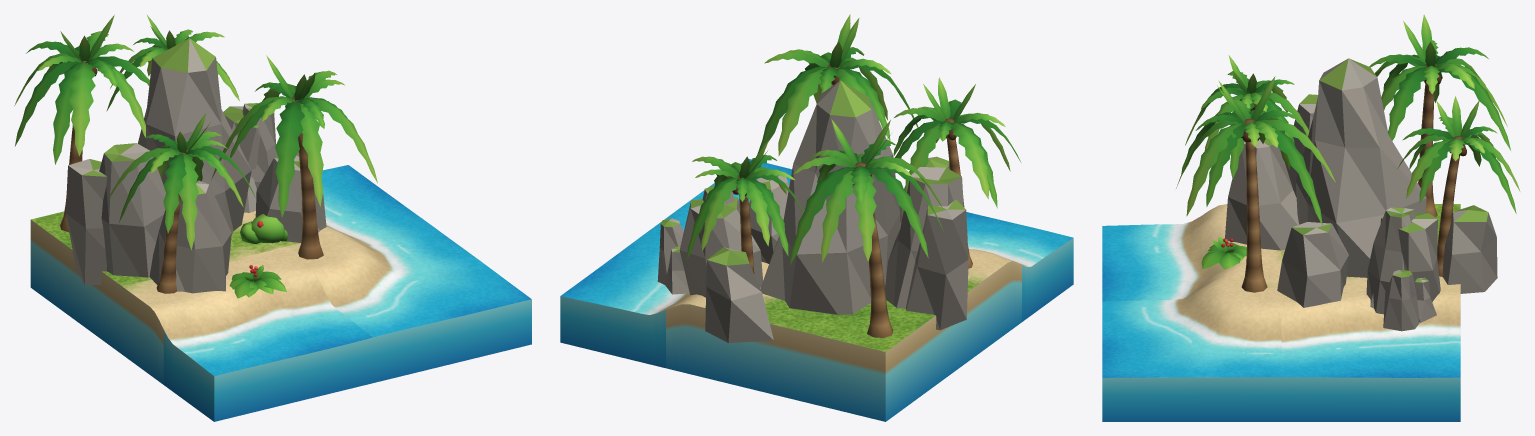
Rendered from Corner_Hill.obj.
3 views of the same model, side by side, from view 1: azimuth 30°, elevation 25°; view 2: azimuth 150°, elevation 25°; view 3: azimuth 270°, elevation 25° (orthographic). The views are drawn at different scales.
Parts seen in each view (by area): view 1: Corner_Hill_Palette, Corner_Hill_Corner_Hill_Terrain; view 2: Corner_Hill_Palette, Corner_Hill_Corner_Hill_Terrain; view 3: Corner_Hill_Palette, Corner_Hill_Corner_Hill_Terrain.
Boxes of the visible parts, left/top/right/bottom form: Corner_Hill_Palette: left=14, top=14, right=531, bottom=421; Corner_Hill_Corner_Hill_Terrain: left=31, top=165, right=531, bottom=376; Corner_Hill_Palette: left=560, top=14, right=1073, bottom=421; Corner_Hill_Corner_Hill_Terrain: left=560, top=159, right=1073, bottom=351; Corner_Hill_Palette: left=1102, top=14, right=1520, bottom=421; Corner_Hill_Corner_Hill_Terrain: left=1102, top=204, right=1460, bottom=377.
Size of the model in its own units: 4.36 by 3.22 by 4.67.
Materials: 2 (2 with a texture image).
